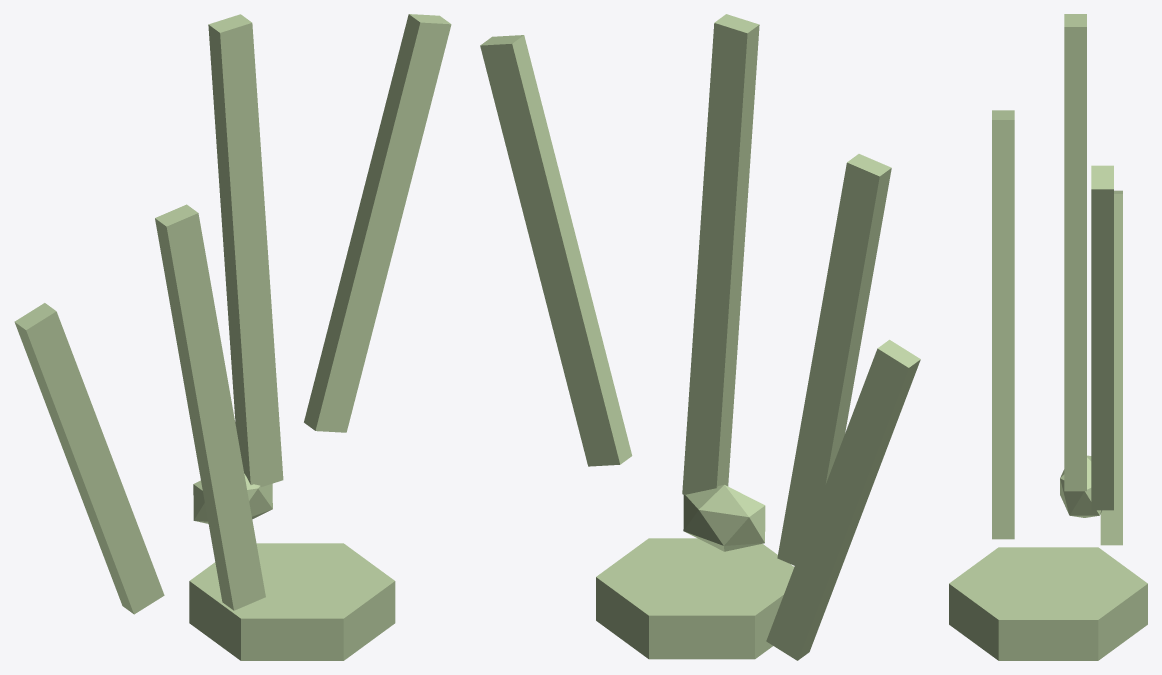
File: COASTAL_GRASS_TUSSOCK_001_LOD_GAMEPLAY.glb
The picture shows the model from 3 angles, left to right: view 1: azimuth 30°, elevation 25°; view 2: azimuth 150°, elevation 25°; view 3: azimuth 270°, elevation 25°; orthographic projection. The views are drawn at different scales.
Visible parts, largest first — view 1: COASTAL_GRASS_TUSSOCK_001_LOD_GAMEPLAY_BLADE_003, COASTAL_GRASS_TUSSOCK_001_LOD_GAMEPLAY_BLADE_005, COASTAL_GRASS_TUSSOCK_001_LOD_GAMEPLAY_GROUND_SOCKET, COASTAL_GRASS_TUSSOCK_001_LOD_GAMEPLAY_BLADE_002, COASTAL_GRASS_TUSSOCK_001_LOD_GAMEPLAY_BLADE_001, COASTAL_GRASS_TUSSOCK_001_LOD_GAMEPLAY_TUFT_001; view 2: COASTAL_GRASS_TUSSOCK_001_LOD_GAMEPLAY_BLADE_003, COASTAL_GRASS_TUSSOCK_001_LOD_GAMEPLAY_BLADE_005, COASTAL_GRASS_TUSSOCK_001_LOD_GAMEPLAY_GROUND_SOCKET, COASTAL_GRASS_TUSSOCK_001_LOD_GAMEPLAY_BLADE_002, COASTAL_GRASS_TUSSOCK_001_LOD_GAMEPLAY_BLADE_001, COASTAL_GRASS_TUSSOCK_001_LOD_GAMEPLAY_TUFT_001; view 3: COASTAL_GRASS_TUSSOCK_001_LOD_GAMEPLAY_GROUND_SOCKET, COASTAL_GRASS_TUSSOCK_001_LOD_GAMEPLAY_BLADE_003, COASTAL_GRASS_TUSSOCK_001_LOD_GAMEPLAY_BLADE_002, COASTAL_GRASS_TUSSOCK_001_LOD_GAMEPLAY_BLADE_005, COASTAL_GRASS_TUSSOCK_001_LOD_GAMEPLAY_BLADE_001, COASTAL_GRASS_TUSSOCK_001_LOD_GAMEPLAY_TUFT_001.
Part boxes in pixels (x1=…): COASTAL_GRASS_TUSSOCK_001_LOD_GAMEPLAY_BLADE_003: x1=208, y1=14, x2=283, y2=486; COASTAL_GRASS_TUSSOCK_001_LOD_GAMEPLAY_BLADE_005: x1=304, y1=14, x2=451, y2=432; COASTAL_GRASS_TUSSOCK_001_LOD_GAMEPLAY_GROUND_SOCKET: x1=189, y1=543, x2=395, y2=660; COASTAL_GRASS_TUSSOCK_001_LOD_GAMEPLAY_BLADE_002: x1=155, y1=204, x2=265, y2=610; COASTAL_GRASS_TUSSOCK_001_LOD_GAMEPLAY_BLADE_001: x1=14, y1=303, x2=164, y2=614; COASTAL_GRASS_TUSSOCK_001_LOD_GAMEPLAY_TUFT_001: x1=193, y1=474, x2=272, y2=523; COASTAL_GRASS_TUSSOCK_001_LOD_GAMEPLAY_BLADE_003: x1=682, y1=14, x2=759, y2=494; COASTAL_GRASS_TUSSOCK_001_LOD_GAMEPLAY_BLADE_005: x1=480, y1=35, x2=632, y2=466; COASTAL_GRASS_TUSSOCK_001_LOD_GAMEPLAY_GROUND_SOCKET: x1=596, y1=538, x2=794, y2=659; COASTAL_GRASS_TUSSOCK_001_LOD_GAMEPLAY_BLADE_002: x1=777, y1=154, x2=891, y2=565; COASTAL_GRASS_TUSSOCK_001_LOD_GAMEPLAY_BLADE_001: x1=766, y1=339, x2=920, y2=660; COASTAL_GRASS_TUSSOCK_001_LOD_GAMEPLAY_TUFT_001: x1=683, y1=484, x2=765, y2=551; COASTAL_GRASS_TUSSOCK_001_LOD_GAMEPLAY_GROUND_SOCKET: x1=949, y1=547, x2=1147, y2=660; COASTAL_GRASS_TUSSOCK_001_LOD_GAMEPLAY_BLADE_003: x1=1064, y1=14, x2=1086, y2=491; COASTAL_GRASS_TUSSOCK_001_LOD_GAMEPLAY_BLADE_002: x1=992, y1=110, x2=1014, y2=539; COASTAL_GRASS_TUSSOCK_001_LOD_GAMEPLAY_BLADE_005: x1=1091, y1=165, x2=1113, y2=510; COASTAL_GRASS_TUSSOCK_001_LOD_GAMEPLAY_BLADE_001: x1=1100, y1=190, x2=1122, y2=545; COASTAL_GRASS_TUSSOCK_001_LOD_GAMEPLAY_TUFT_001: x1=1060, y1=455, x2=1101, y2=517.
Bounding box in the file's own units: 1.04 × 1.43 × 0.44.
